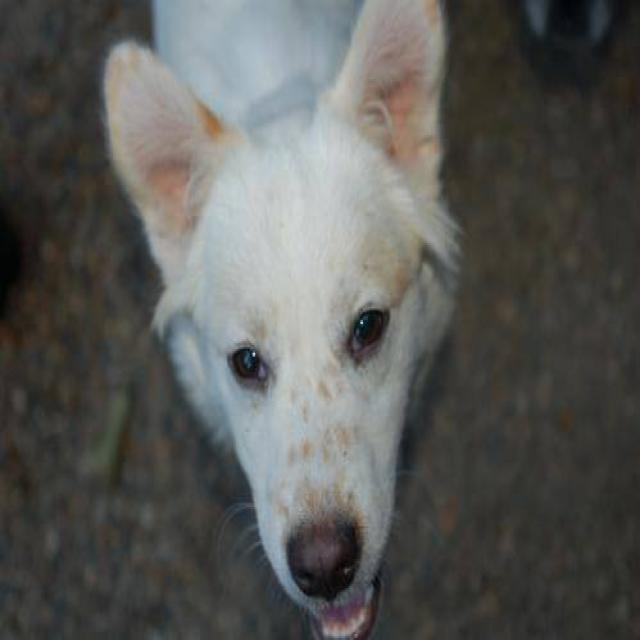dog: (100, 0, 463, 638)
